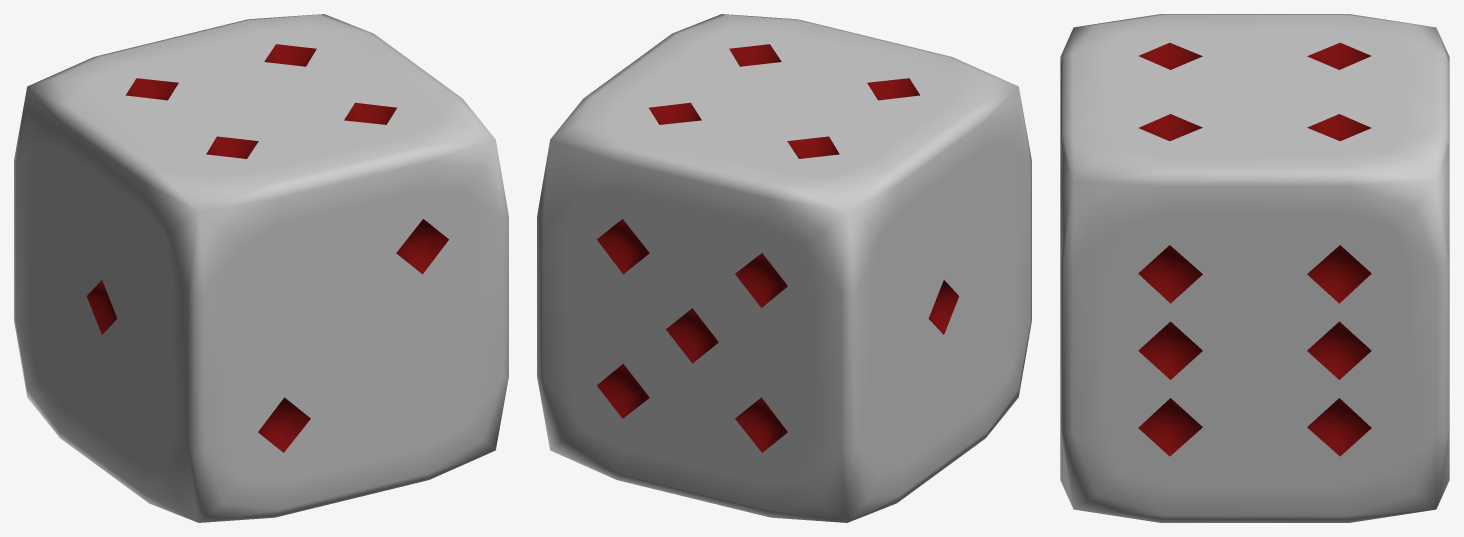
File: Dado01.FBX
3 views of the same model, side by side, from view 1: azimuth 30°, elevation 25°; view 2: azimuth 150°, elevation 25°; view 3: azimuth 270°, elevation 25° (orthographic). The views are drawn at different scales.
Parts seen in each view (by area): view 1: Box001; view 2: Box001; view 3: Box001.
Part boxes in pixels (bbox=[...]): Box001: bbox=[14, 14, 508, 522]; Box001: bbox=[537, 14, 1031, 522]; Box001: bbox=[1060, 14, 1449, 522].
Size of the model in its own units: 30 by 30 by 30.
